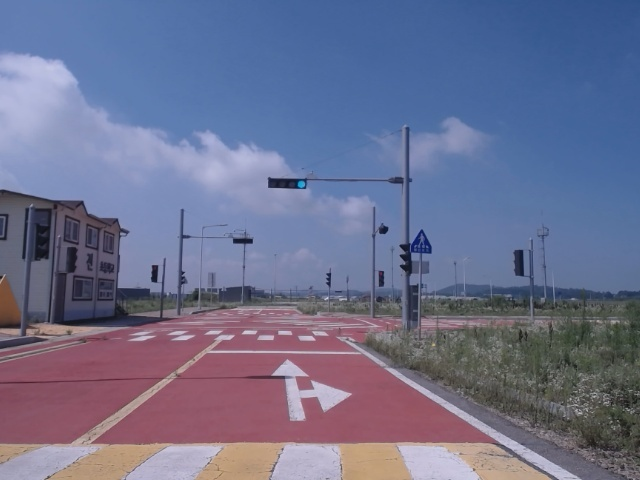straight_green_4: (268, 179, 307, 190)
